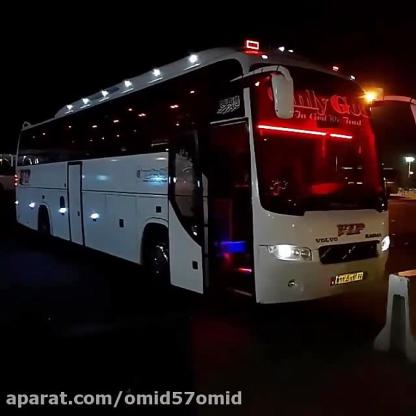Bus: (3, 52, 416, 324)
